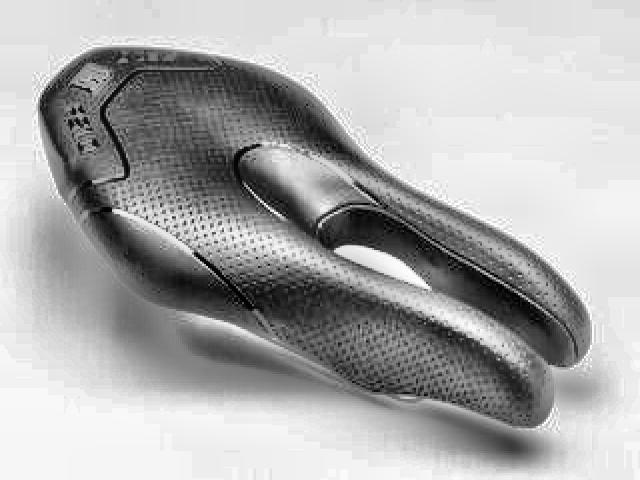saddle: (36, 41, 596, 436)
